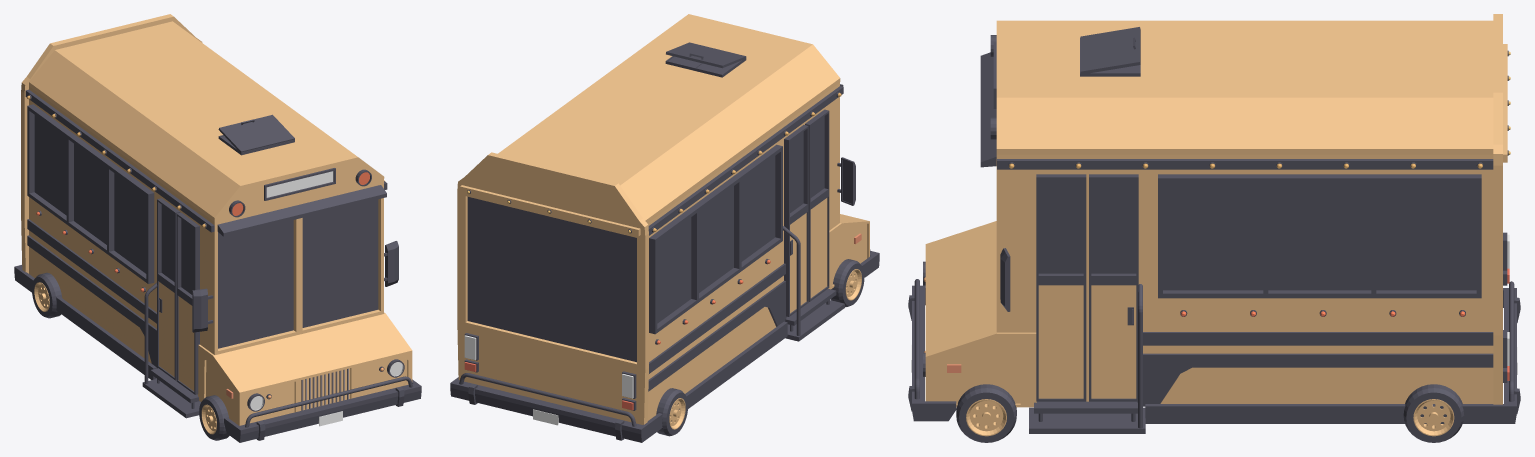
Rendered from Bus.fbx.
The picture shows the model from 3 angles, left to right: view 1: azimuth 30°, elevation 25°; view 2: azimuth 150°, elevation 25°; view 3: azimuth 270°, elevation 25°; orthographic projection. The views are drawn at different scales.
Parts seen in each view (by area): view 1: Cube.087, Cube.091, Cube.088; view 2: Cube.087, Cube.091; view 3: Cube.087, Cube.091.
Part boxes in pixels (x1,y1,x2,y2): Cube.087: (21,14,421,442); Cube.091: (14,265,156,379); Cube.088: (301,368,348,410); Cube.087: (457,14,879,436); Cube.091: (450,321,787,442); Cube.087: (908,14,1509,442); Cube.091: (1145,281,1520,423).
Size of the model in its own units: 1272 by 1515 by 2456.
1 material, 1 textured.
